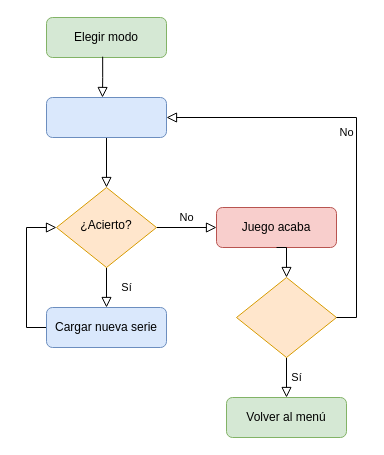
Some shapes in this 384 by 455 pixel diagram are drawn without their labels. The shapes that lost their labels are listed below. From the top down, each one's box as (x1, y1, x2, y2) in pixels, then its label:
(46, 96, 166, 138): Cargar juego
(236, 276, 336, 358): ¿Salir?
